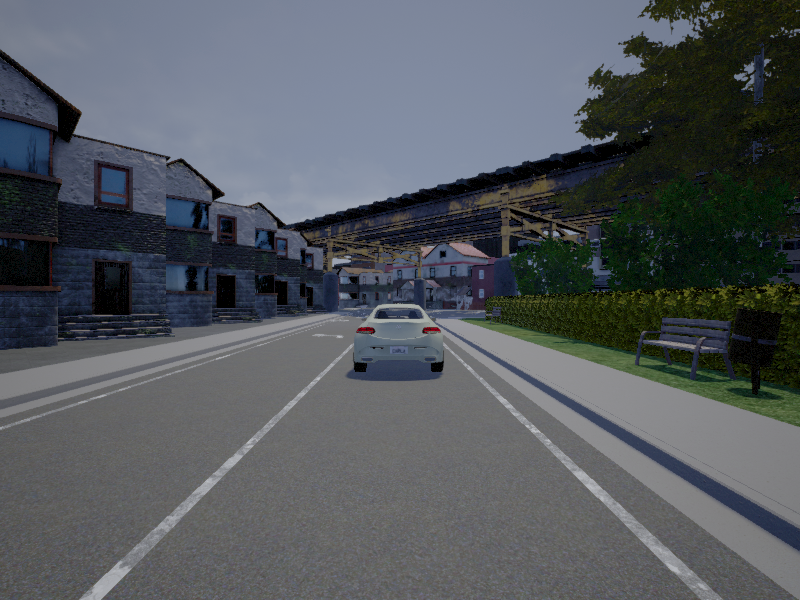Benign: (355, 304, 443, 372)
